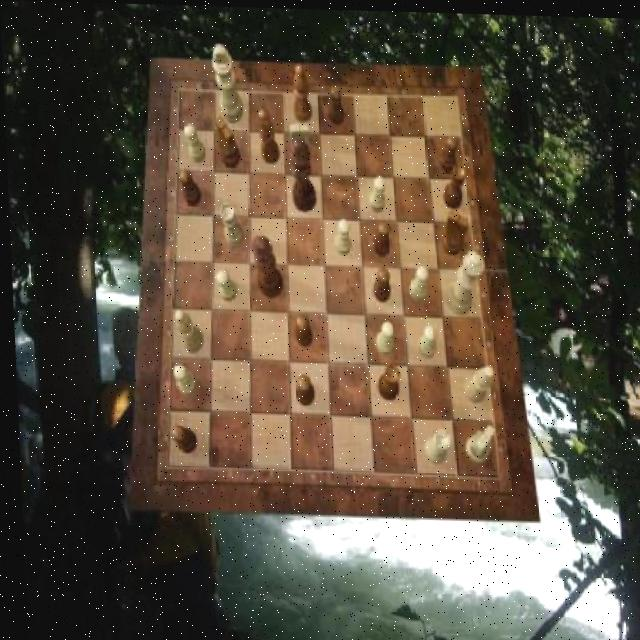bishop: (256, 107, 278, 162), (291, 62, 310, 121)
black-bishop: (288, 137, 315, 212)
black-king: (438, 207, 467, 253), (213, 115, 238, 167)
black-knight: (177, 167, 200, 205), (437, 132, 458, 170), (166, 424, 193, 452), (371, 218, 390, 254), (327, 85, 344, 125), (291, 313, 310, 347), (369, 265, 387, 300), (292, 373, 311, 406)
black-pawn: (249, 233, 281, 297)
black-queen: (440, 159, 465, 207), (372, 361, 397, 399)
black-rook: (171, 308, 200, 353), (458, 363, 491, 401)
white-bishop: (211, 43, 241, 122)
white-king: (460, 421, 491, 460), (287, 122, 309, 167)
white-knight: (182, 123, 204, 163), (170, 363, 194, 396), (406, 263, 427, 300), (413, 323, 434, 358), (371, 319, 392, 353), (212, 269, 233, 302), (330, 217, 349, 253), (367, 174, 385, 211)
white-pawn: (441, 247, 483, 313)
white-queen: (218, 202, 242, 246), (420, 425, 448, 462)
